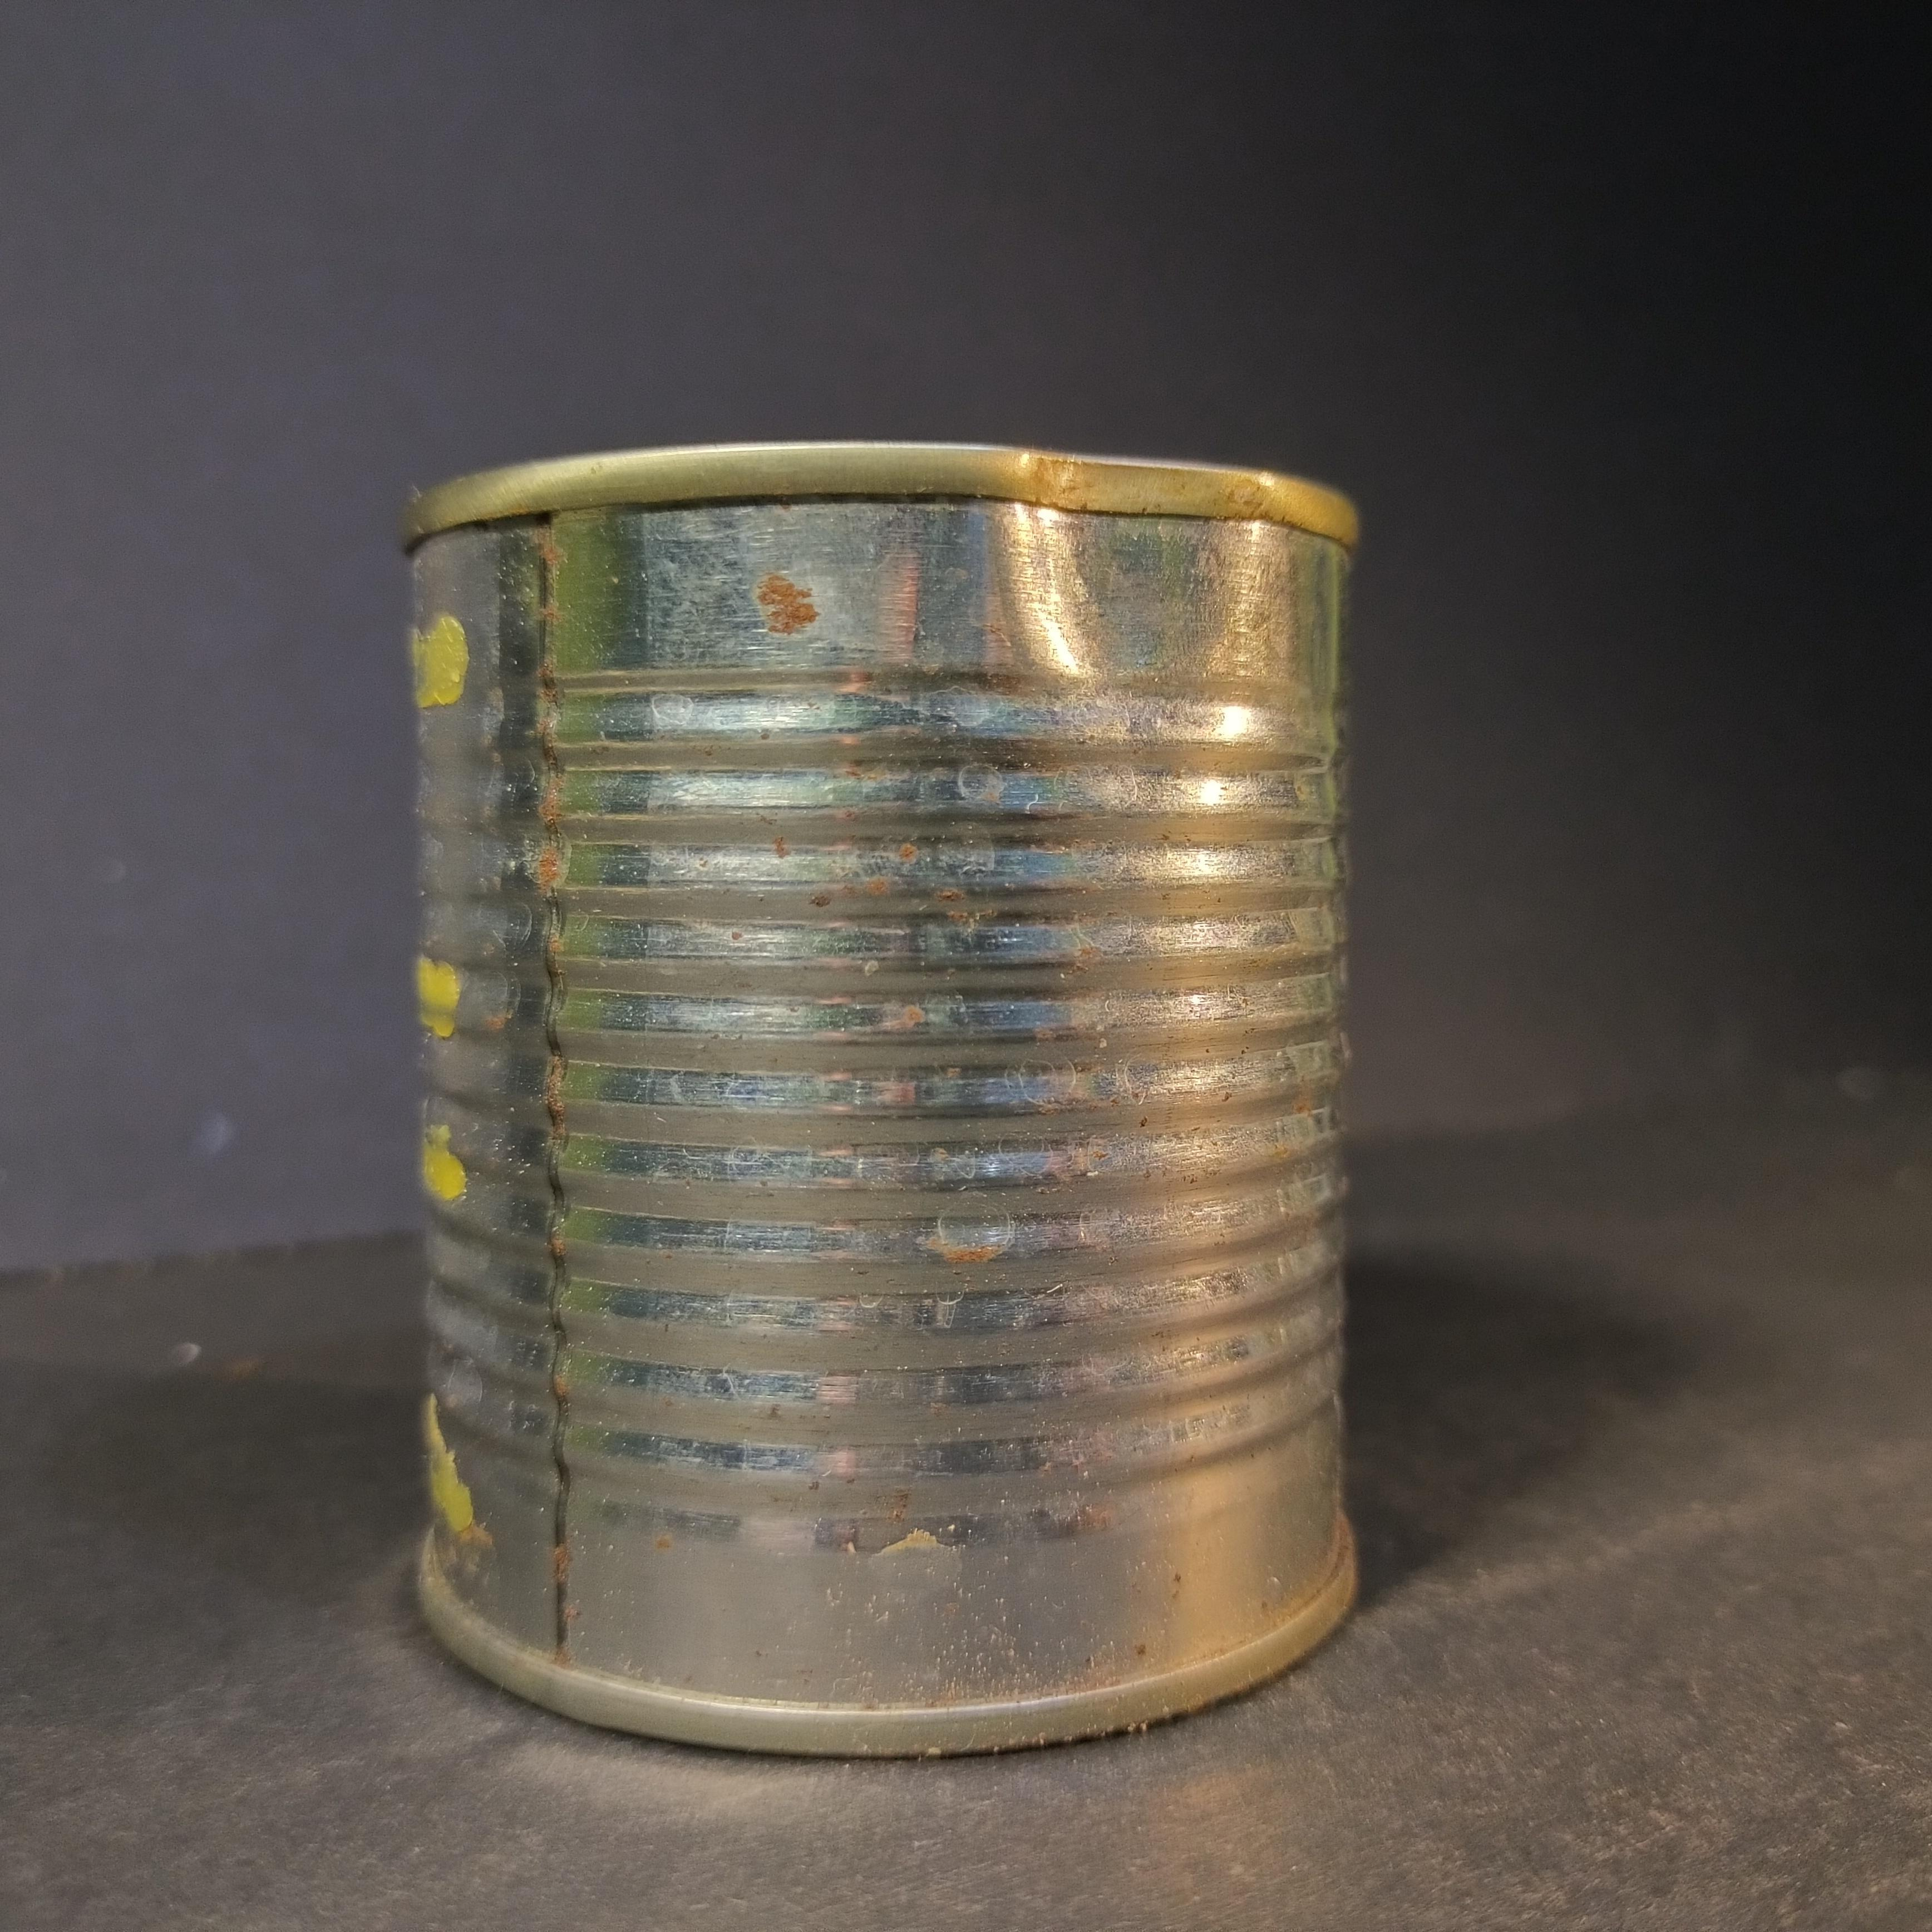Dented: (384, 395, 1396, 1808)
